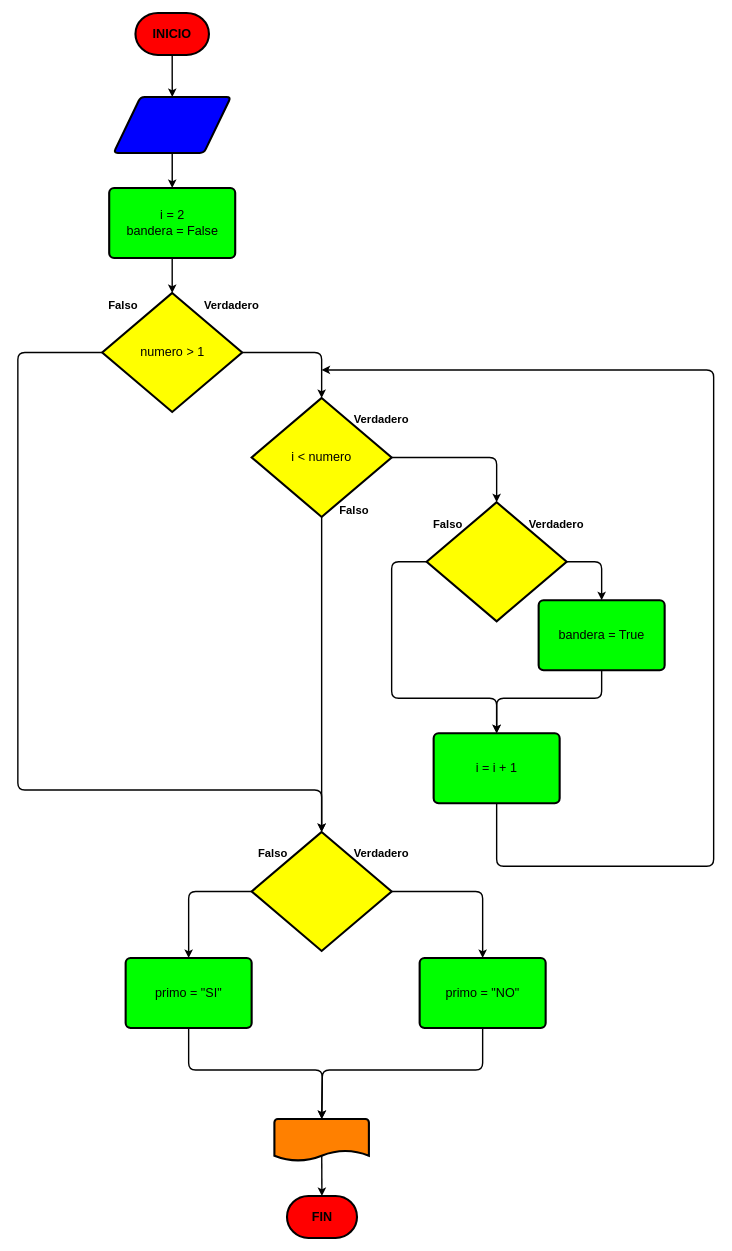
This 732x1251 diagram has some shape labels left out. The box of each missing label's shape, as (x1, y1, x2, y2) in pixels:
bandera == True: (250, 831, 392, 952)
numero: (112, 96, 232, 154)
numero % i == 0: (425, 501, 567, 622)
primo: (273, 1118, 370, 1162)
